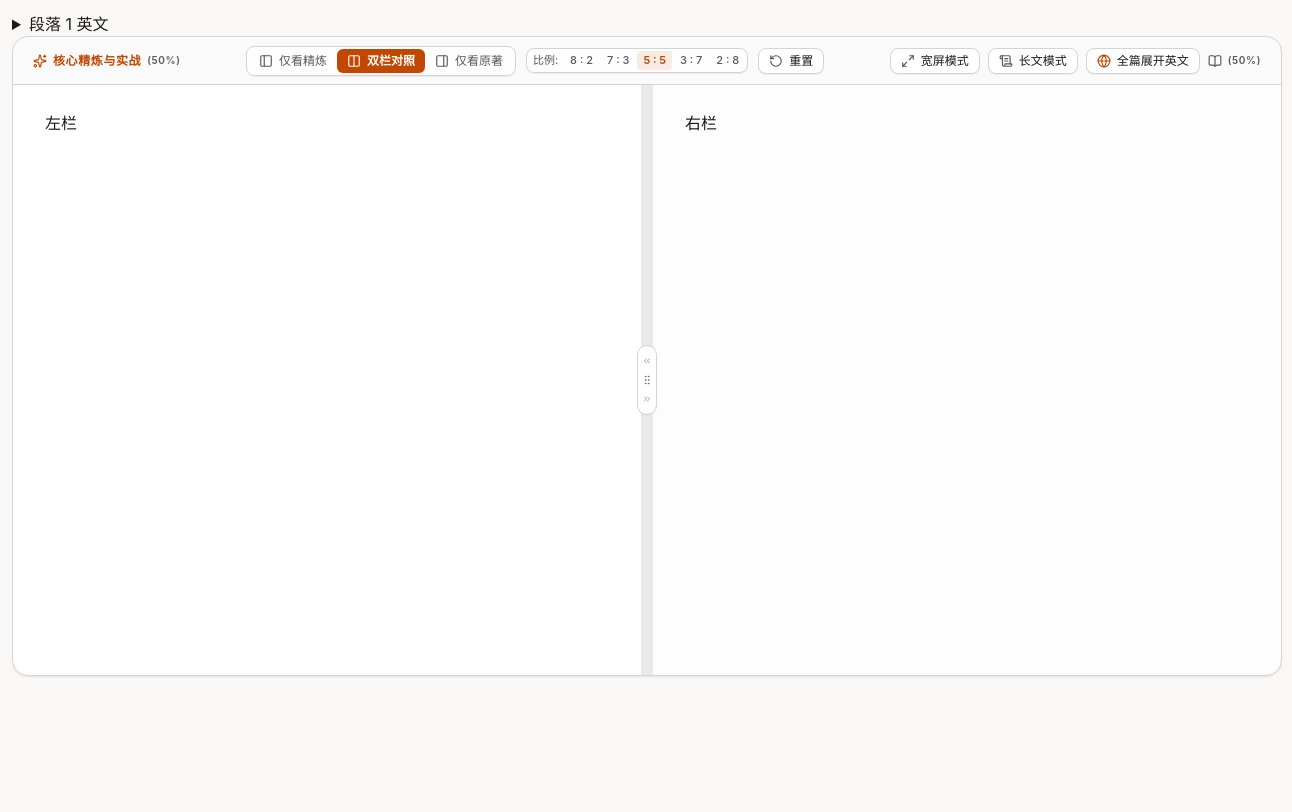
Test: SplitReader 双栏独立滚动组件 › 点击全篇展开英文按钮可切换详情展开状态
This screenshot has width=1292, height=812.
Step 1. Click the button "全篇展开英文" → coordinates (1143, 60), box [1086,48,1200,74]
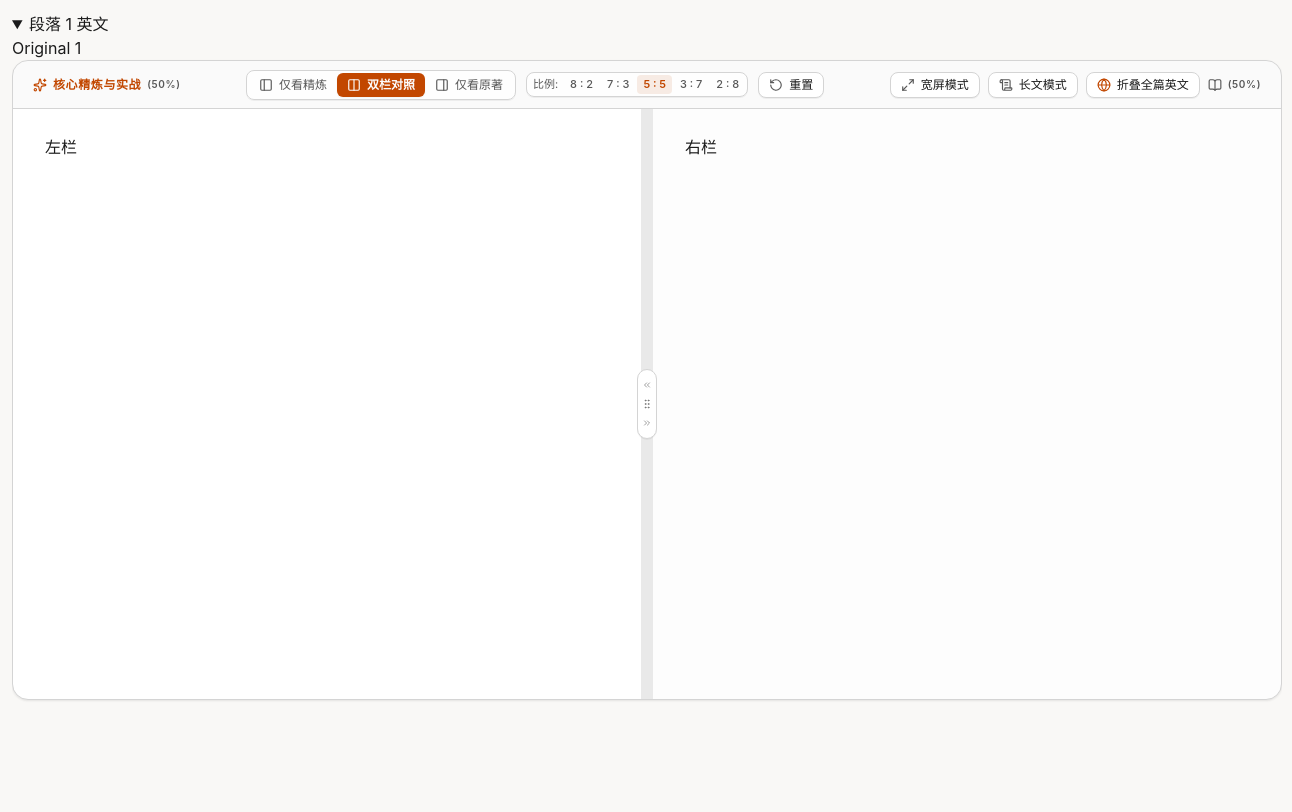
Result: the button "折叠全篇英文" is shown at [1086,72,1200,98]
